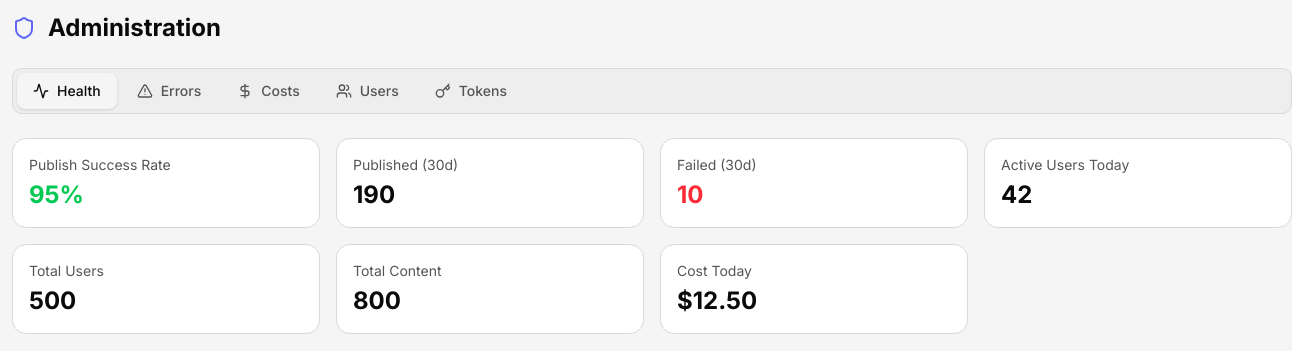
Scenario: AdminPage › renders Users tab with user table
The width and height of the screenshot is (1292, 351).
Expected: the text "Publish Success Rate" is shown, left=29, top=156, right=171, bottom=173
Click the button "Users": click(367, 91) left=320, top=73, right=415, bottom=109
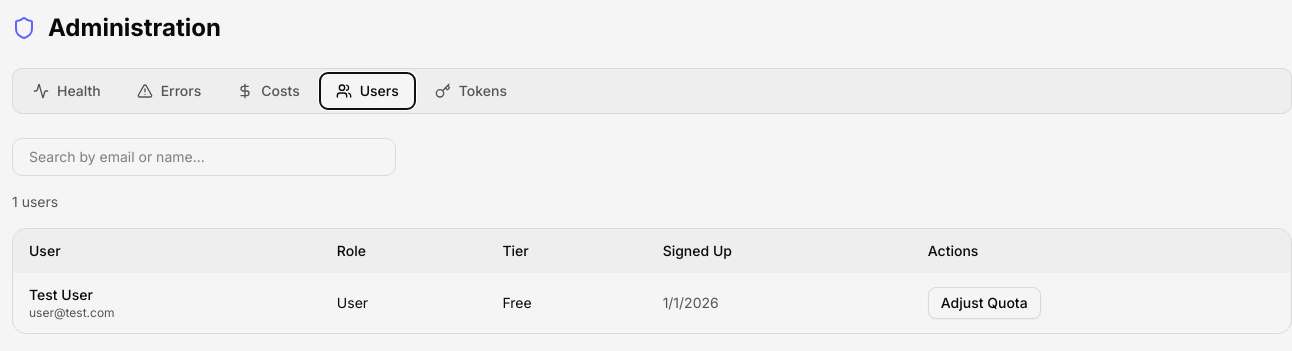
Result: the text "1 users" is shown at left=12, top=193, right=58, bottom=210
Result: the text "Test User" is shown at left=29, top=286, right=93, bottom=303
